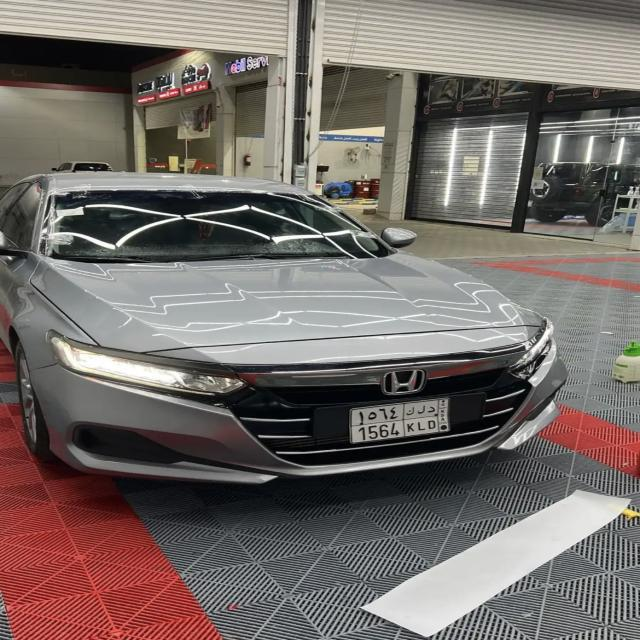license_plate: (348, 397, 452, 443)
